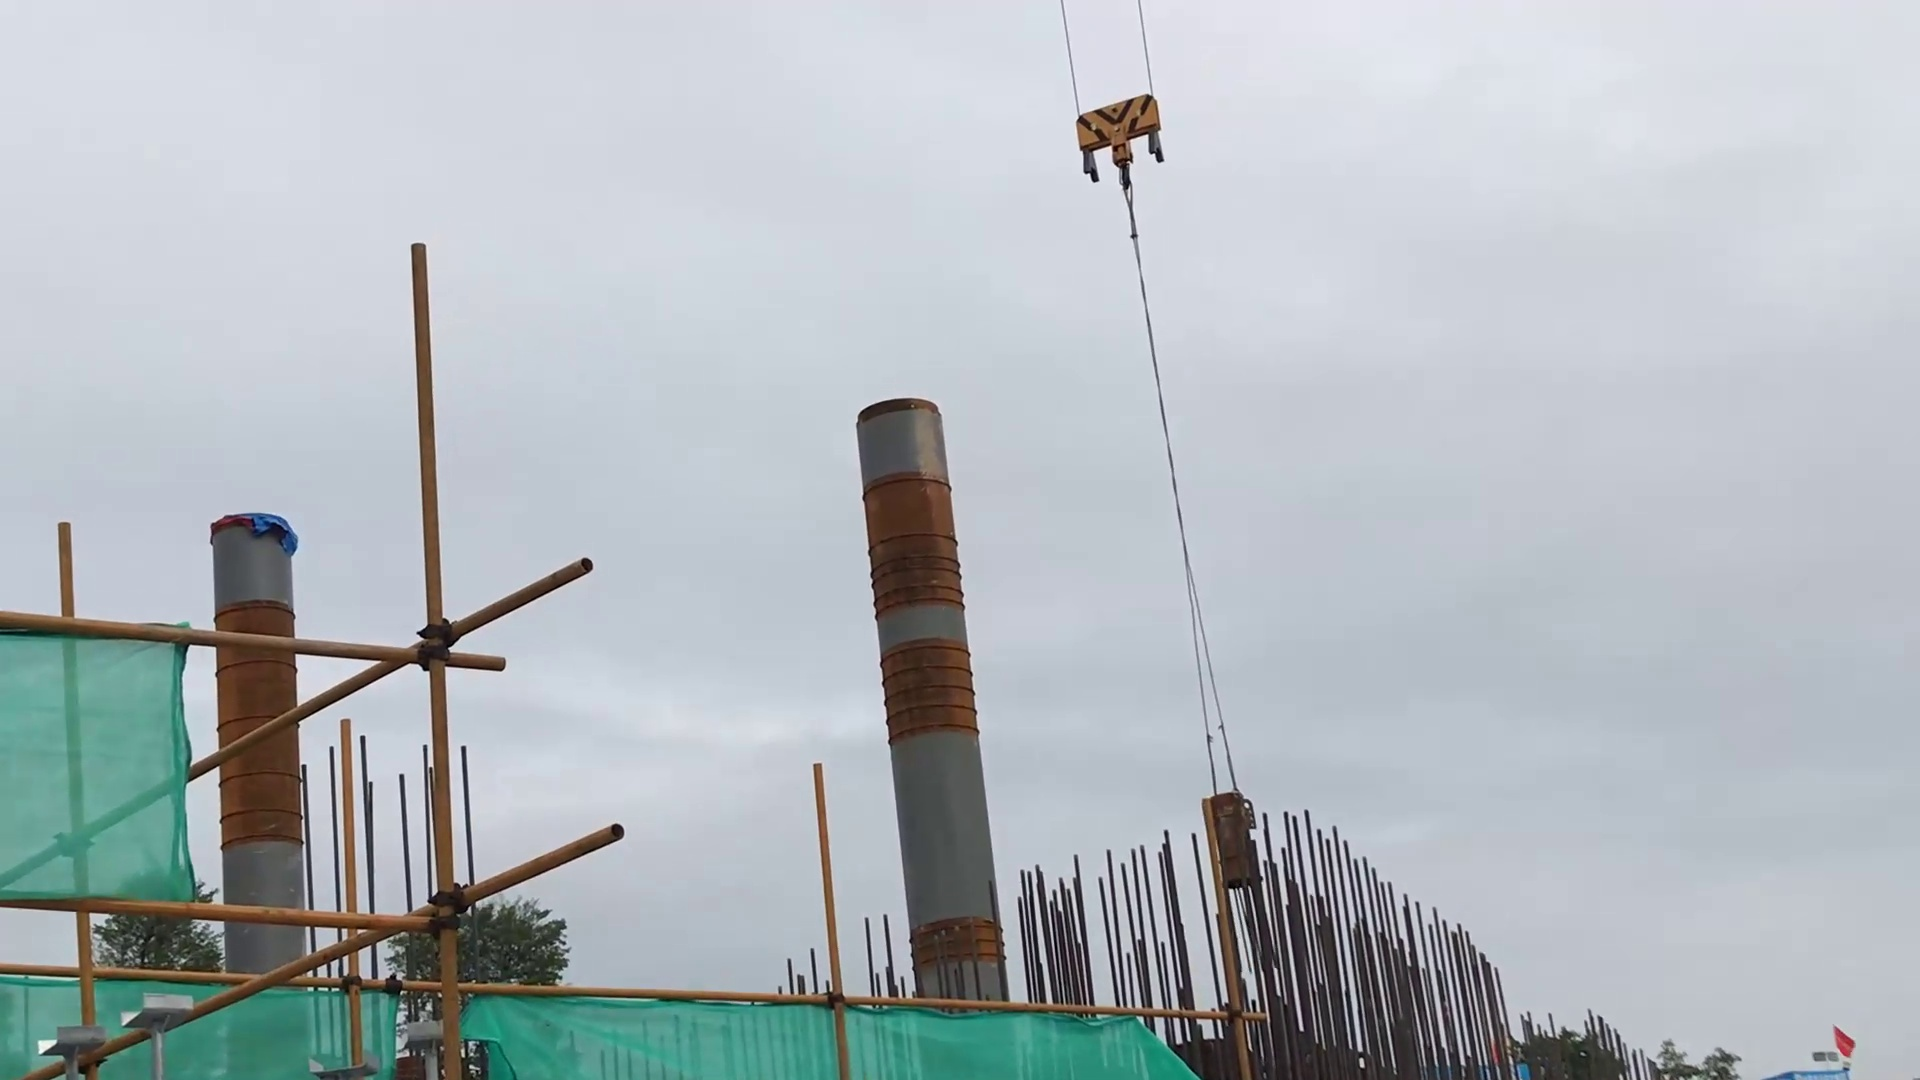hook: (1065, 91, 1174, 190)
